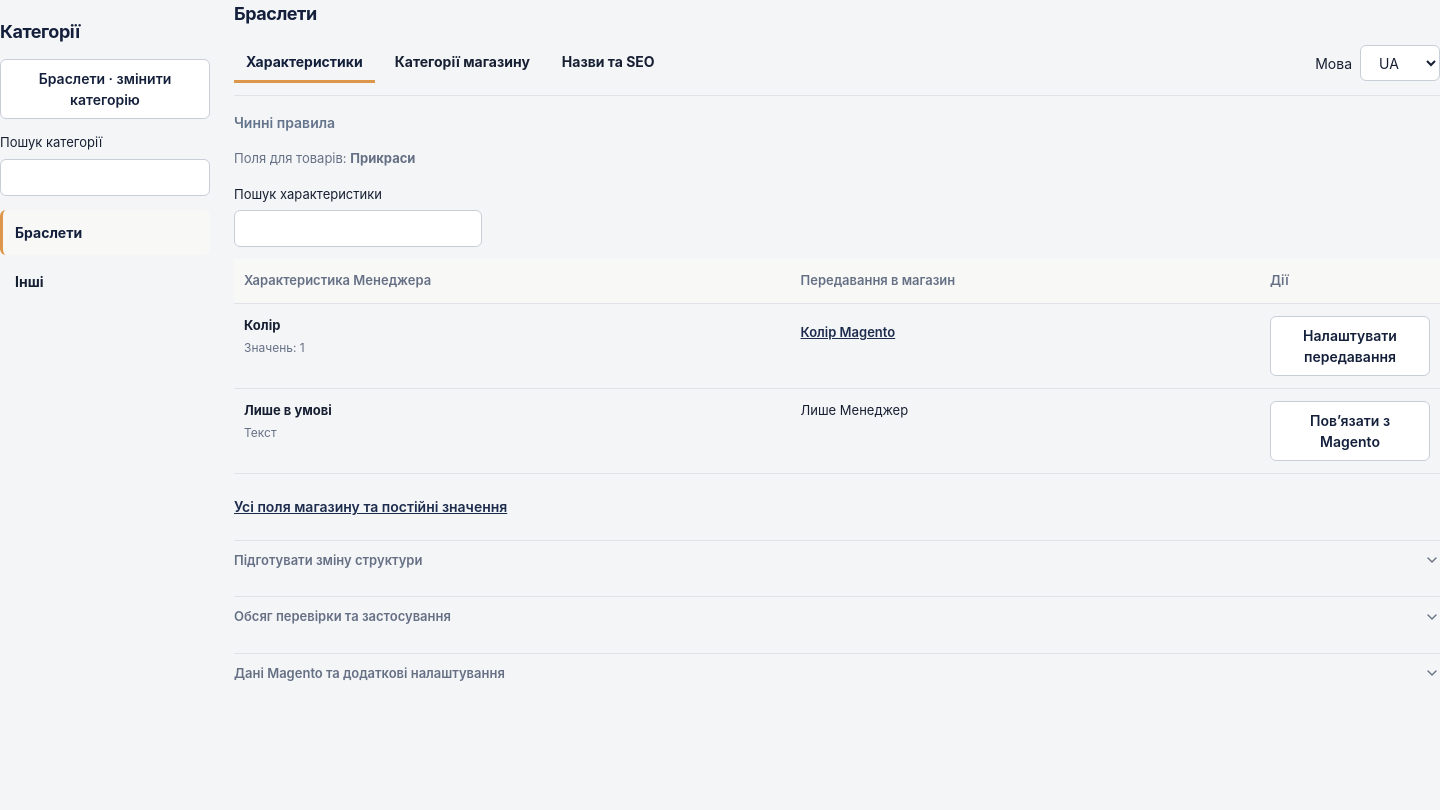
it: offers optional empty descriptions and hides editable service text from everyday fields
Click the button "Назви та SEO" at (608, 63), box [550,43,667,83]
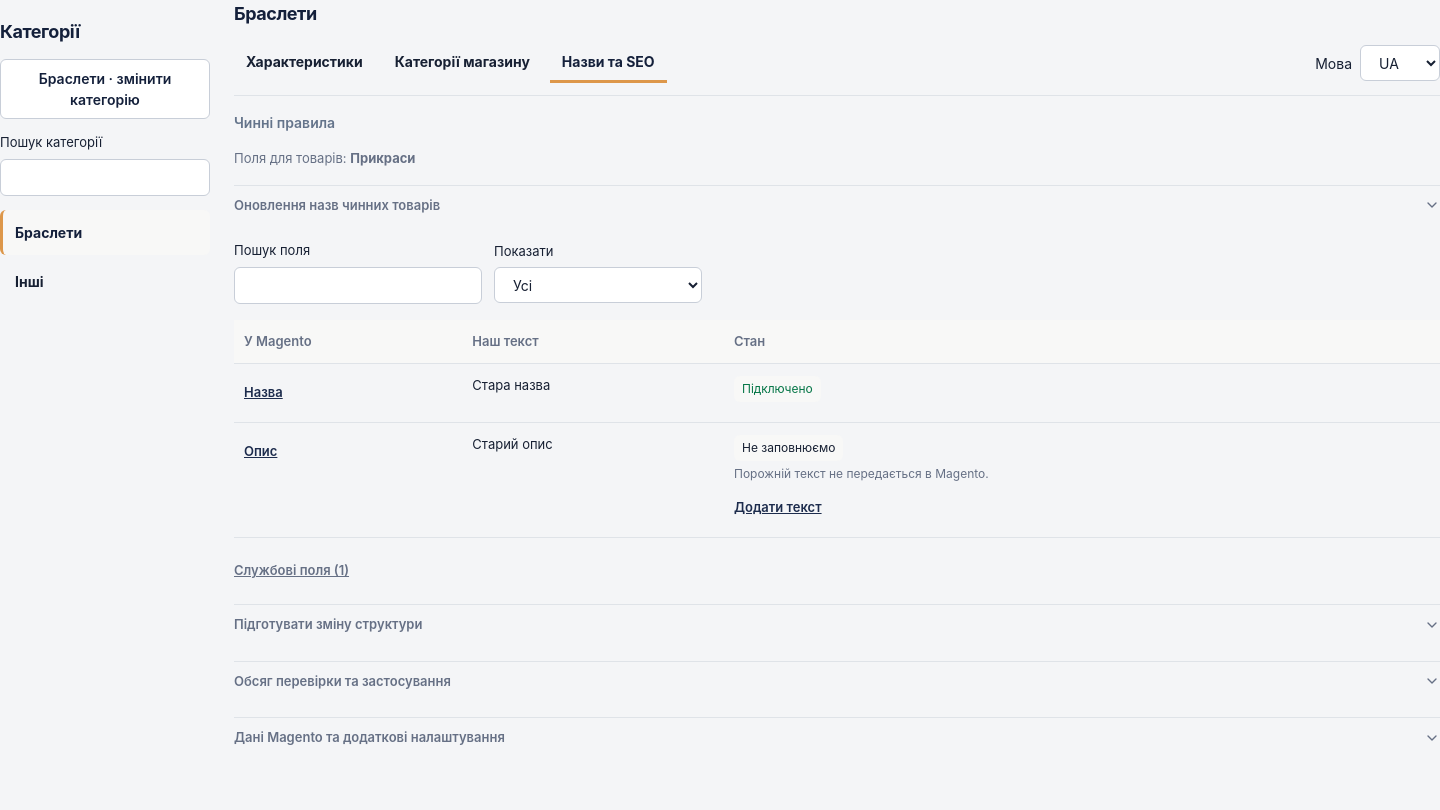
Expected: the text "Порожній текст не передається в Magento." is shown, [734,466,989,481]
Click the button "Додати текст" at (778, 508), box [734,491,822,525]
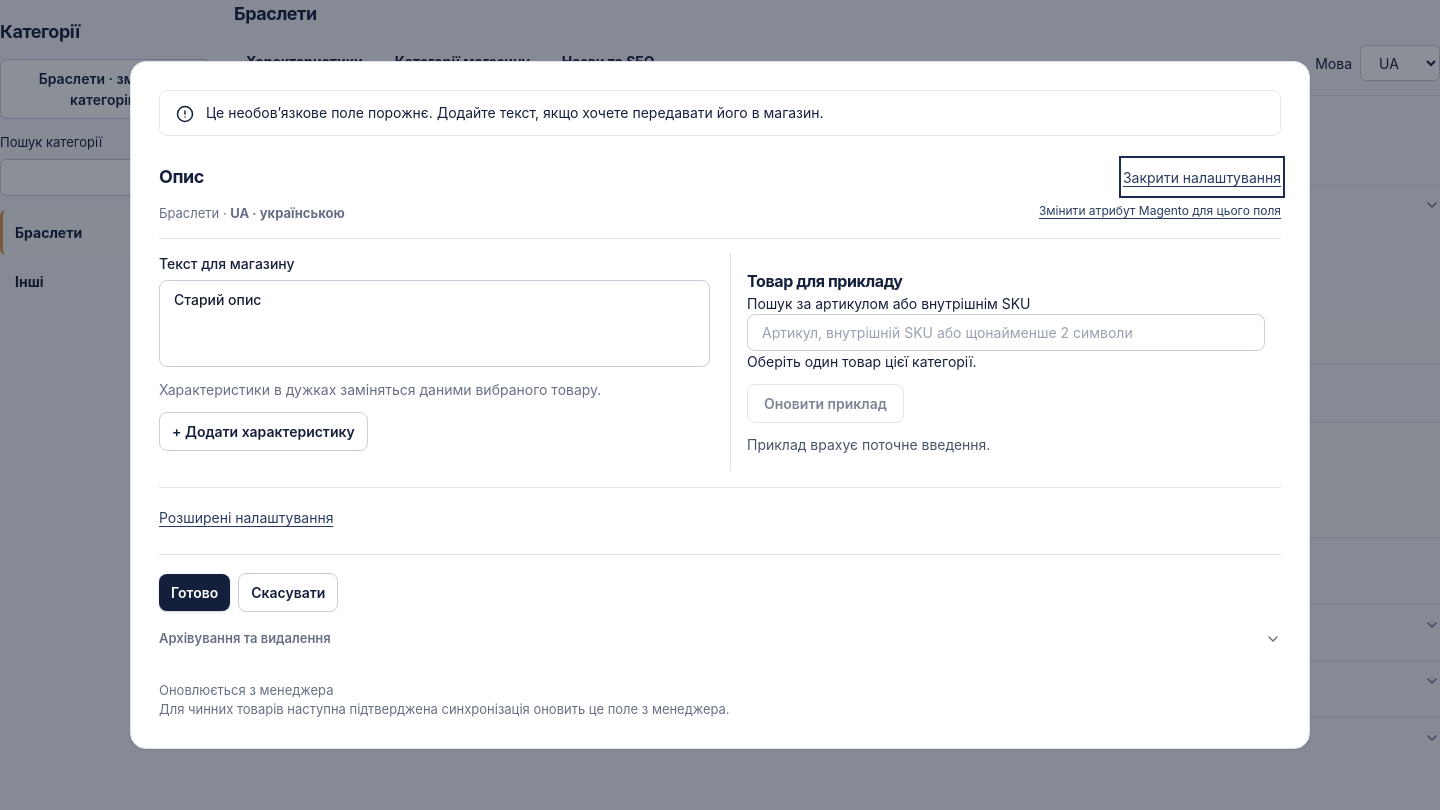
Expected: the text box labelled "Текст для магазину" is shown, [159,280,710,367]
Expected: the text "Це необов’язкове поле порожнє" is shown, [206,104,824,122]
